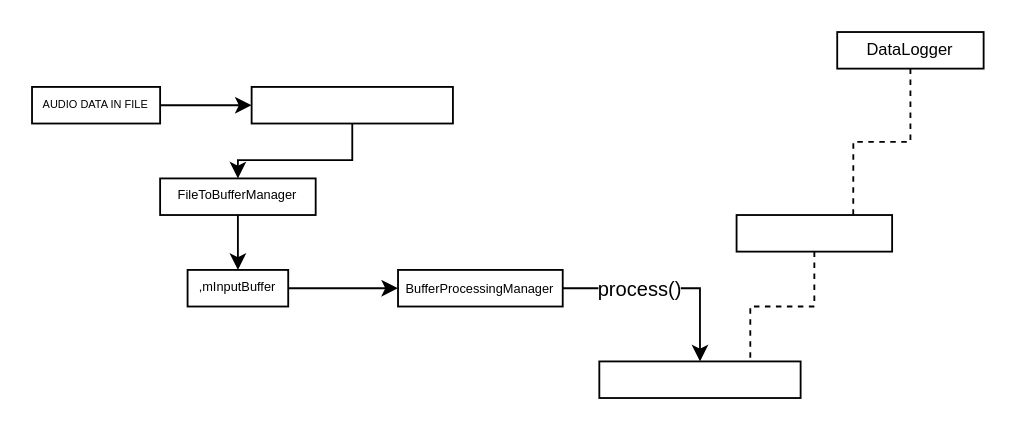
This 1016x430 diagram has some shape labels left out. The shapes that lost their labels are listed below. From the top down, each one's centre as x and y in pixels, then its label:
the point at 351,104: AudioFileTransformer
the point at 813,232: RD_Processor
the point at 699,379: RD_ProcessorSwapper
